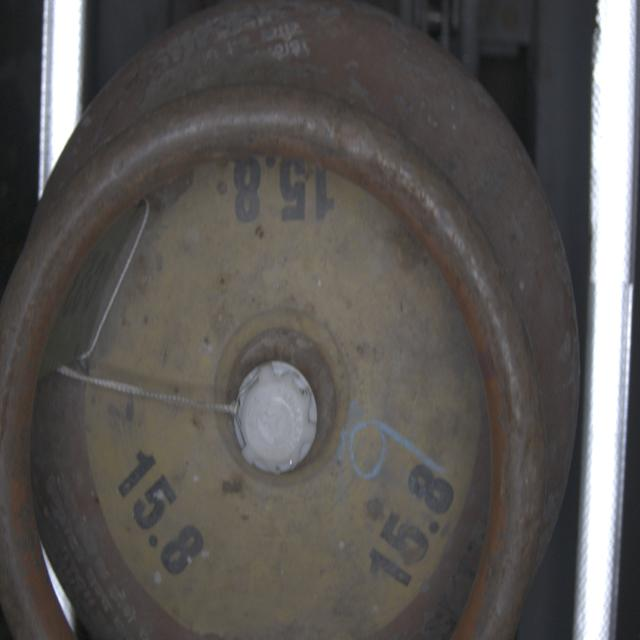Cap: (234, 355, 321, 477)
